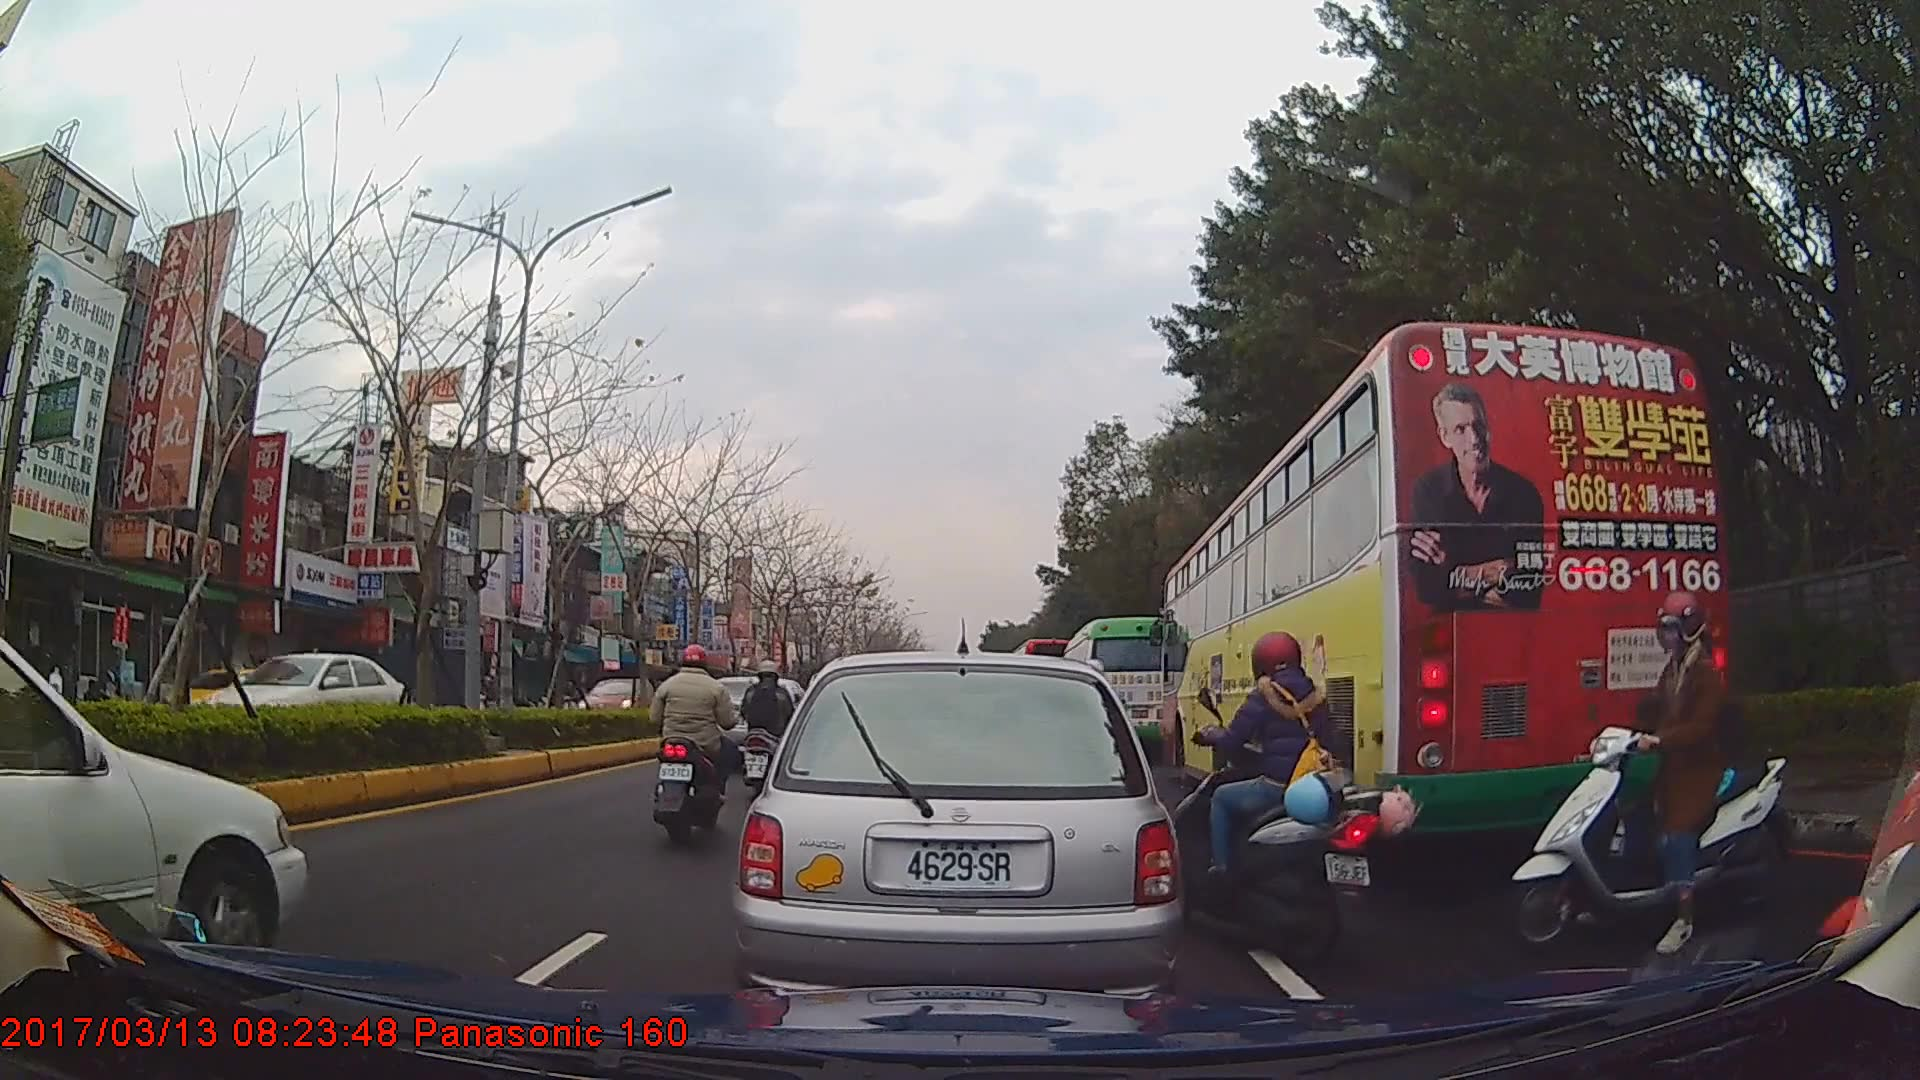rider: (1504, 590, 1787, 956), (1169, 628, 1418, 960), (1821, 541, 1920, 1006), (644, 644, 739, 845), (738, 659, 797, 775)
vehicle: (1159, 319, 1729, 846), (734, 650, 1181, 1005), (0, 634, 307, 967), (210, 648, 413, 742), (1059, 615, 1180, 766), (169, 659, 321, 726), (579, 675, 655, 730)
